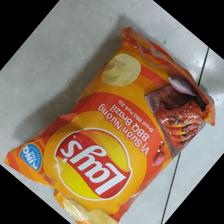Lays: (7, 26, 217, 224)
